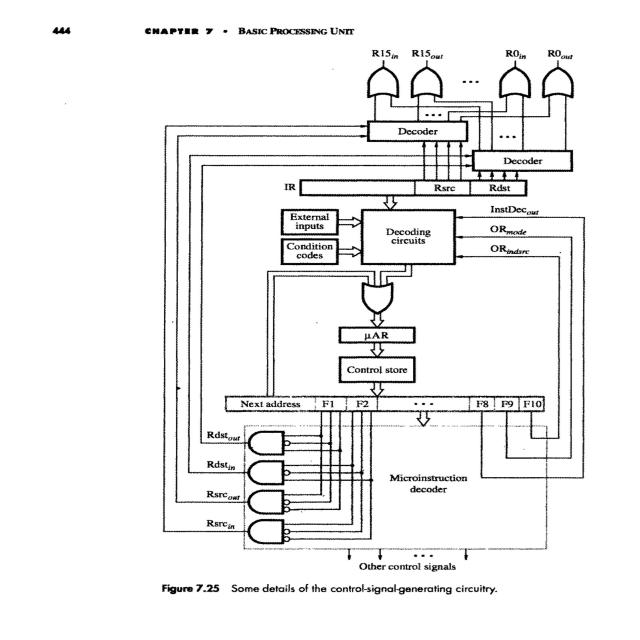diagram: (77, 45, 640, 605)
